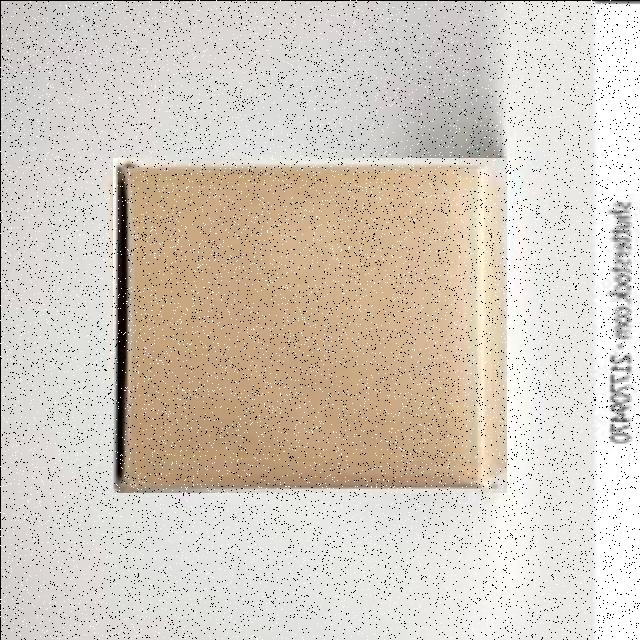normal: (112, 157, 506, 492)
